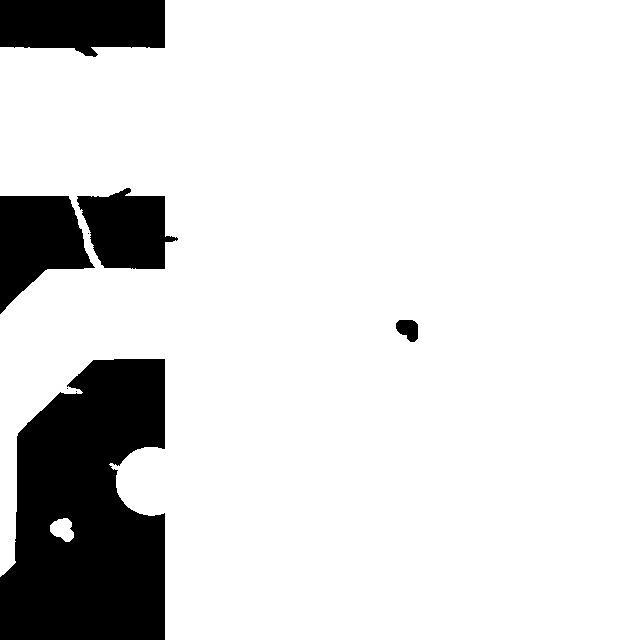copper: (386, 310, 427, 351)
mousebite: (50, 376, 92, 403), (99, 453, 129, 479)
open: (59, 184, 113, 279)
pin-hole: (40, 508, 83, 551)
spur: (65, 34, 107, 66), (99, 178, 140, 209), (151, 226, 187, 251)
